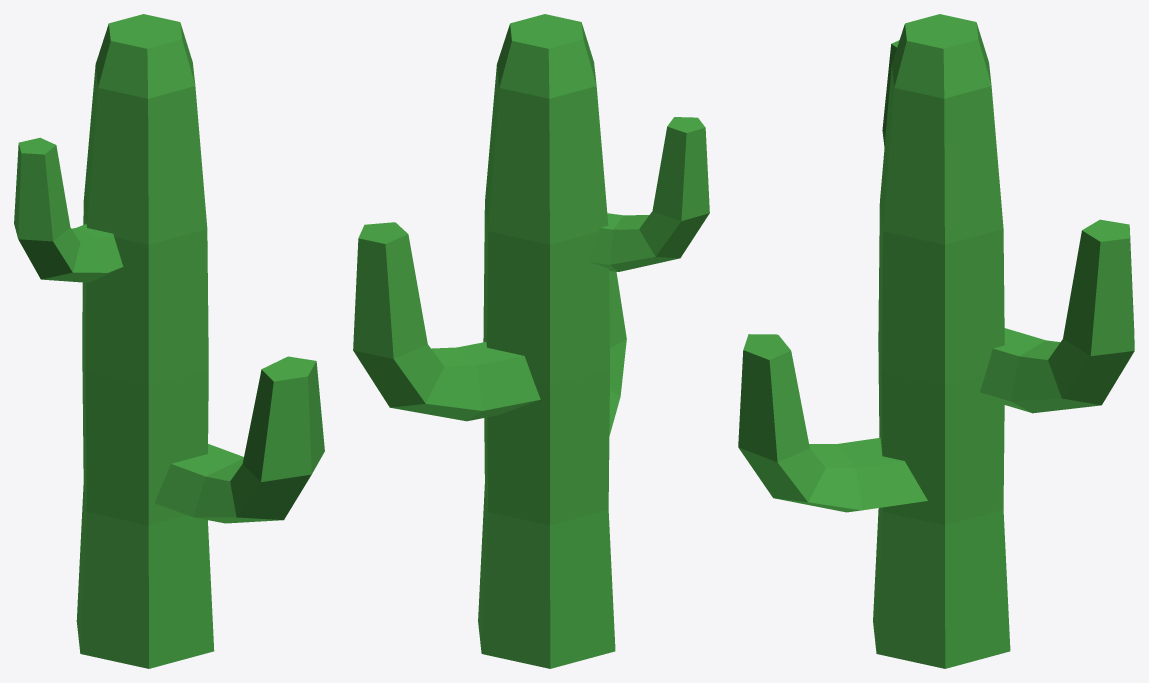
The model's file is Cactus_2.fbx.
3 renders of one model, left to right at view 1: azimuth 30°, elevation 25°; view 2: azimuth 150°, elevation 25°; view 3: azimuth 270°, elevation 25°, orthographic.
Visible parts, largest first — view 1: Cactus, Arm, Arm.002; view 2: Cactus, Arm.001, Arm.002, Arm; view 3: Cactus, Arm.001, Arm.
Boxes of the visible parts, <box> form: Cactus: <box>76,14,214,668</box>; Arm: <box>154,356,324,523</box>; Arm.002: <box>14,137,123,282</box>; Cactus: <box>478,14,615,668</box>; Arm.001: <box>353,222,540,421</box>; Arm.002: <box>588,117,709,271</box>; Arm: <box>609,271,626,435</box>; Cactus: <box>873,14,1010,668</box>; Arm.001: <box>980,219,1134,413</box>; Arm: <box>738,334,927,512</box>.
Size of the model in its own units: 47.86 by 108 by 64.39.
